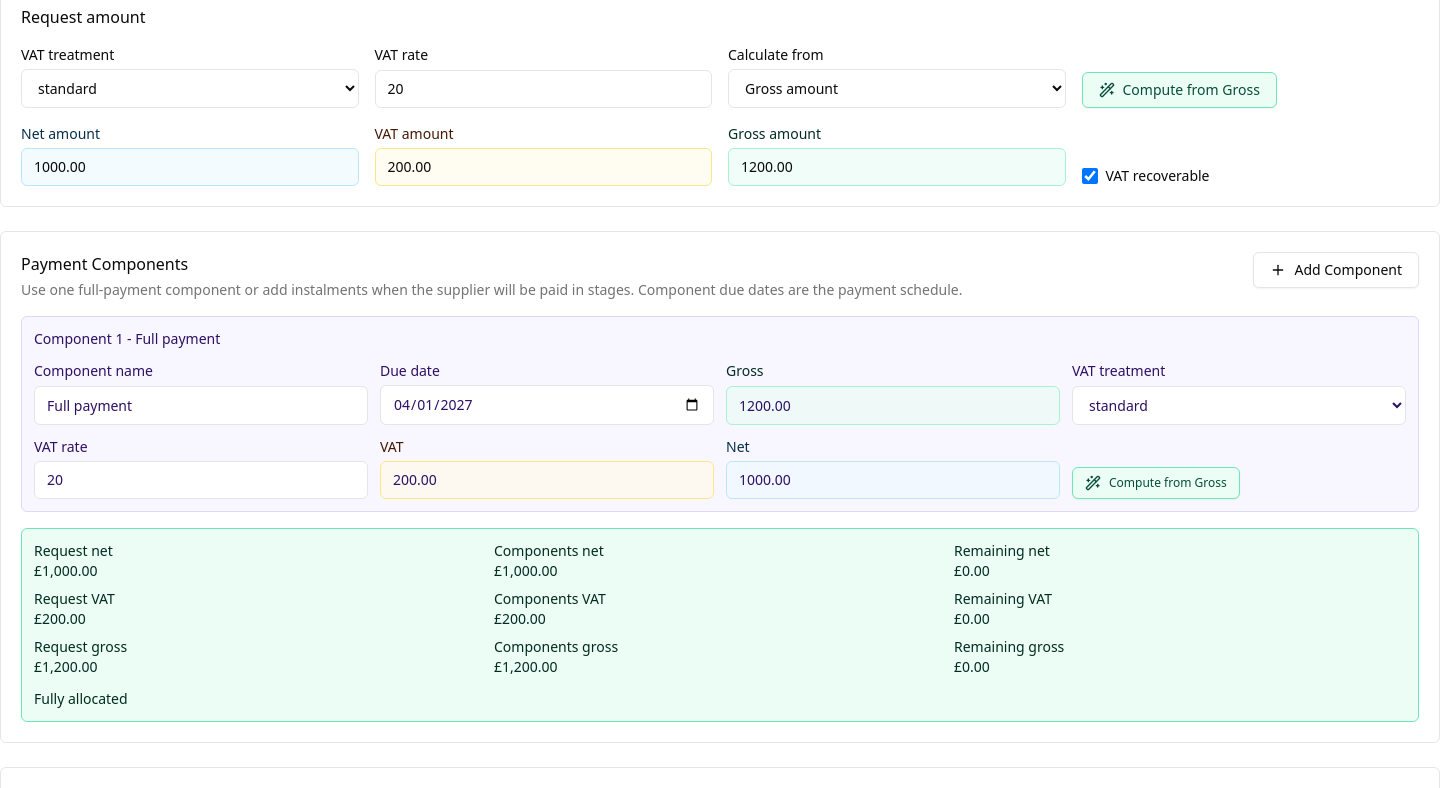
Test case: Stage 5 spending request panels › preserves a custom first component name when adding the final payment
(page scrolled)
Replace the text in the field showing "Full payment" with "Venue booking fee": (201, 406) [34,386,368,425]
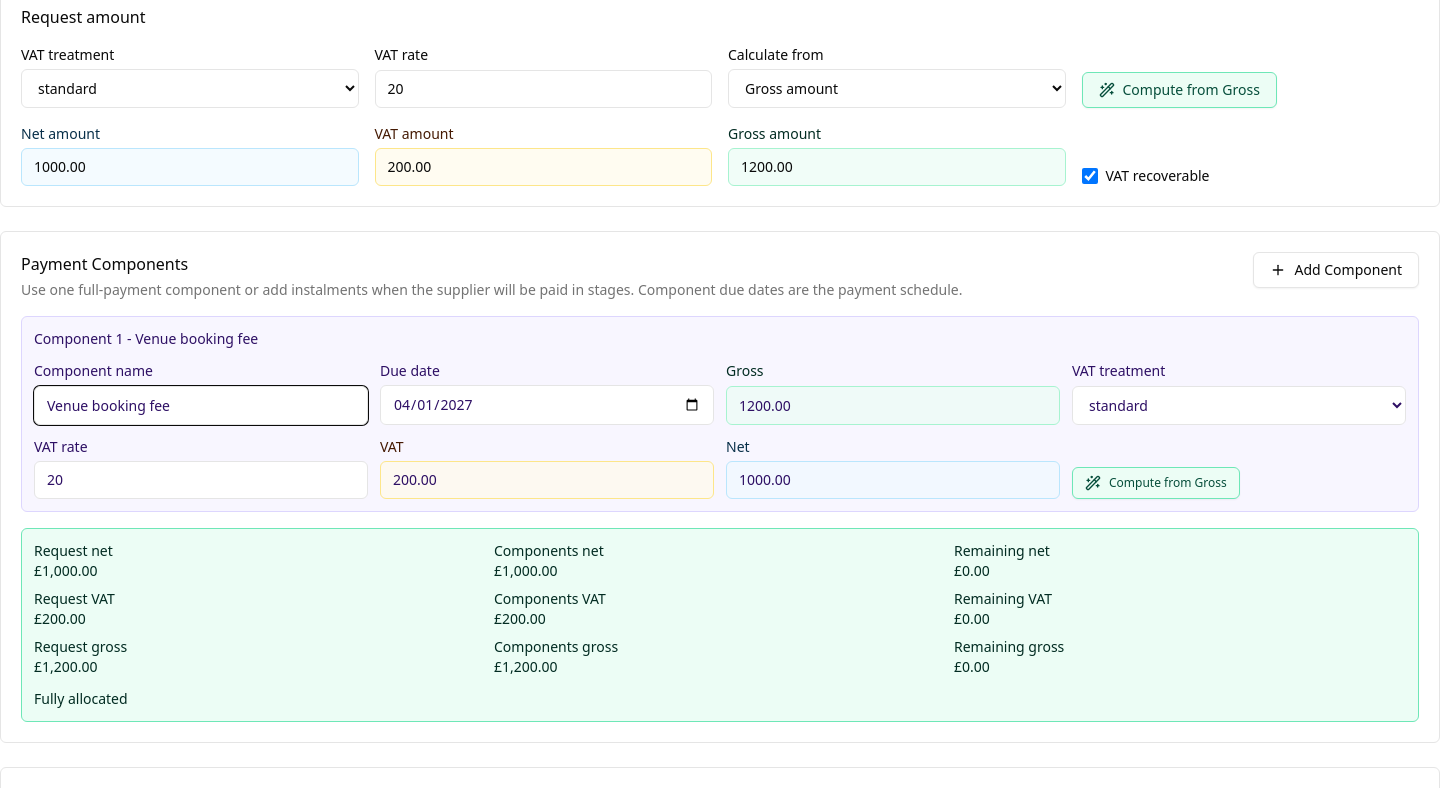
Click the button "Add Component": (1336, 270) [1253,252,1419,288]
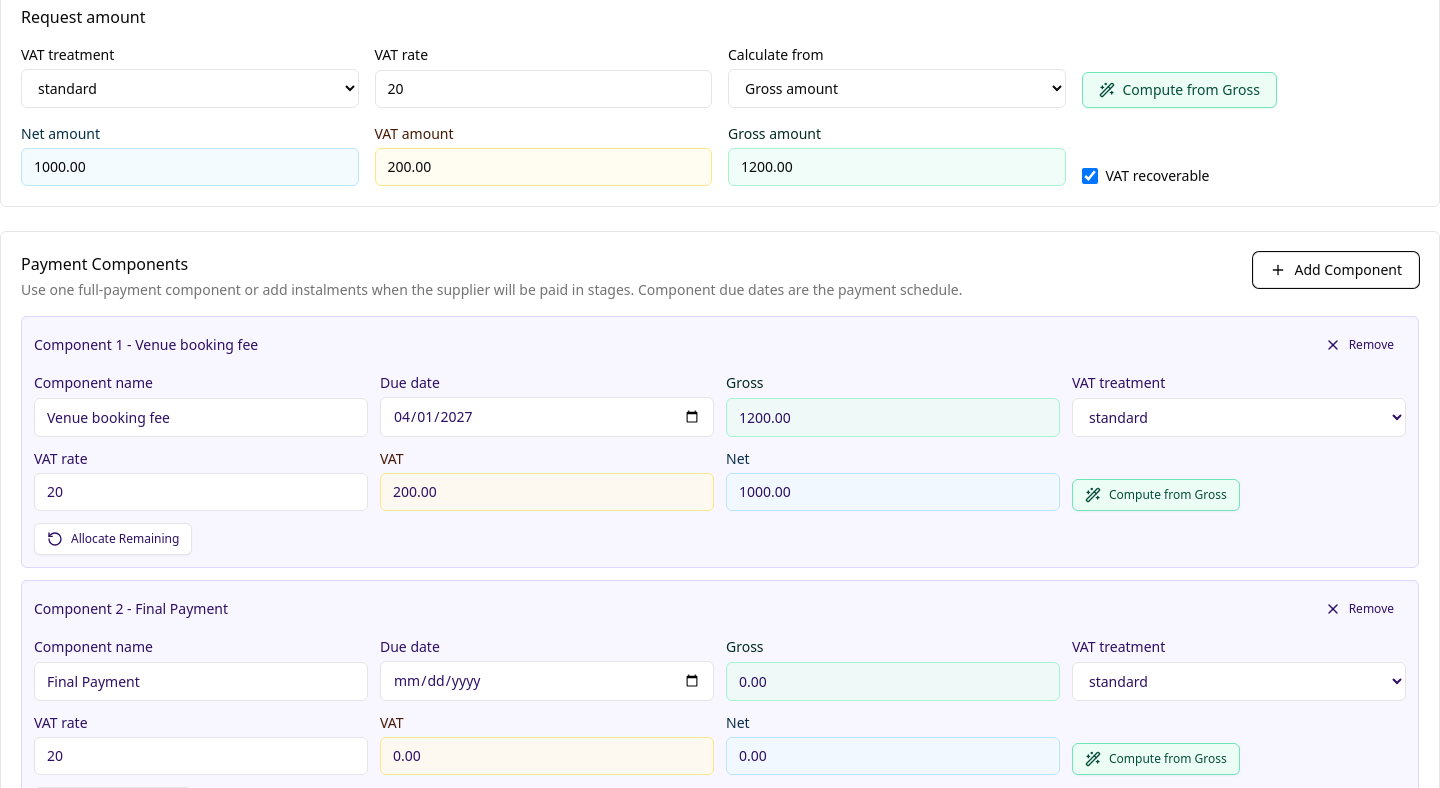
Expected: the field showing "Final Payment" below "- Final Payment" is shown, [34,662,368,701]
